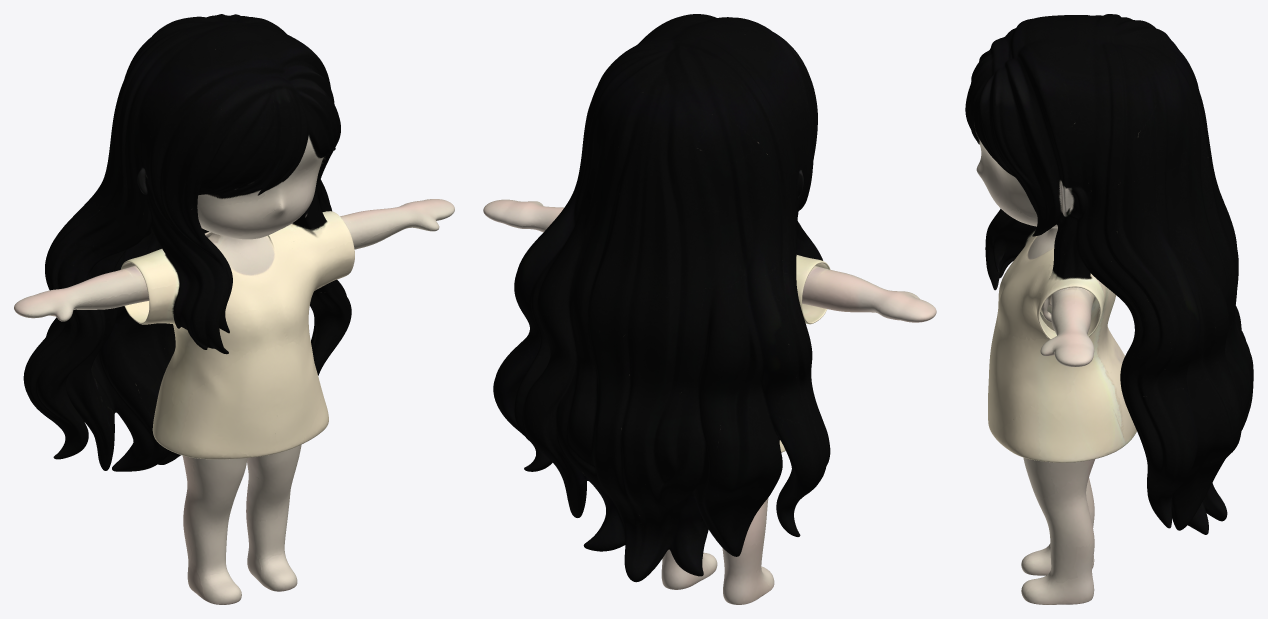
File: baked_hair_blackwavy.glb
3 views of the same model, side by side, from view 1: azimuth 30°, elevation 25°; view 2: azimuth 150°, elevation 25°; view 3: azimuth 270°, elevation 25° (orthographic). The views are drawn at different scales.
Bounding box in the file's own units: 1.58 × 1.9 × 0.8883.
Materials: 1 (1 with a texture image).
